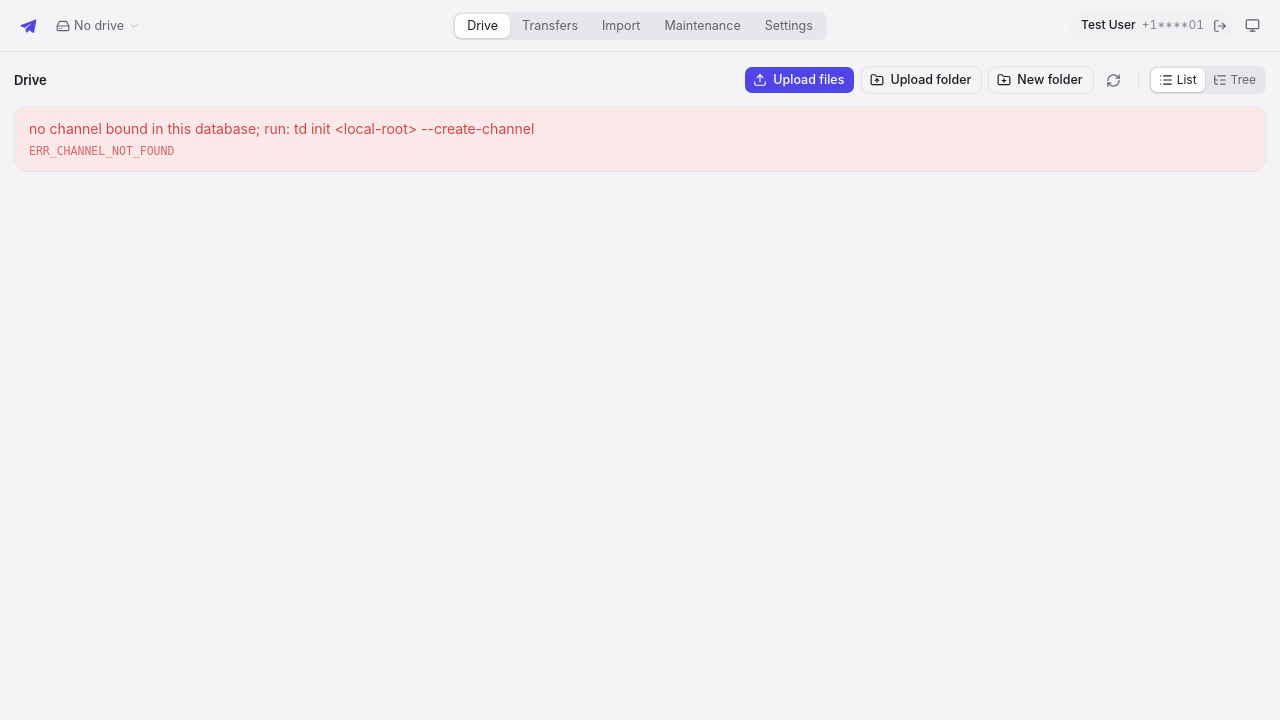
Test: creating a channel with the default title on a fresh machine
Expected: the message is shown, [14, 106, 1266, 172]
What coordinates should you click on to do the following:
click the button with aria-label "Switch drive"
I would click on:
 (98, 26)
Its box is [48, 12, 148, 40].
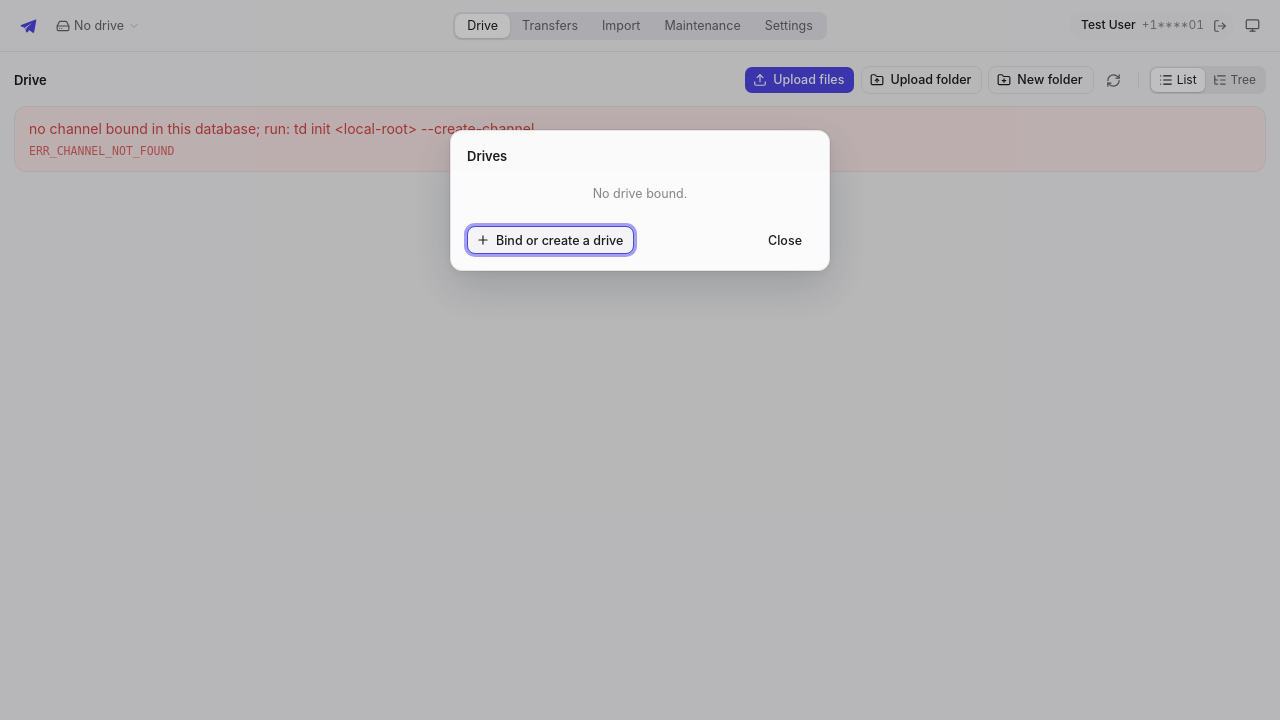
Now the text "No drive bound." is shown, box [593, 186, 687, 201]
What coordinates should you click on to do the following:
click the button "Bind or create a drive"
I would click on:
 (551, 240)
Its box is [467, 226, 634, 254].
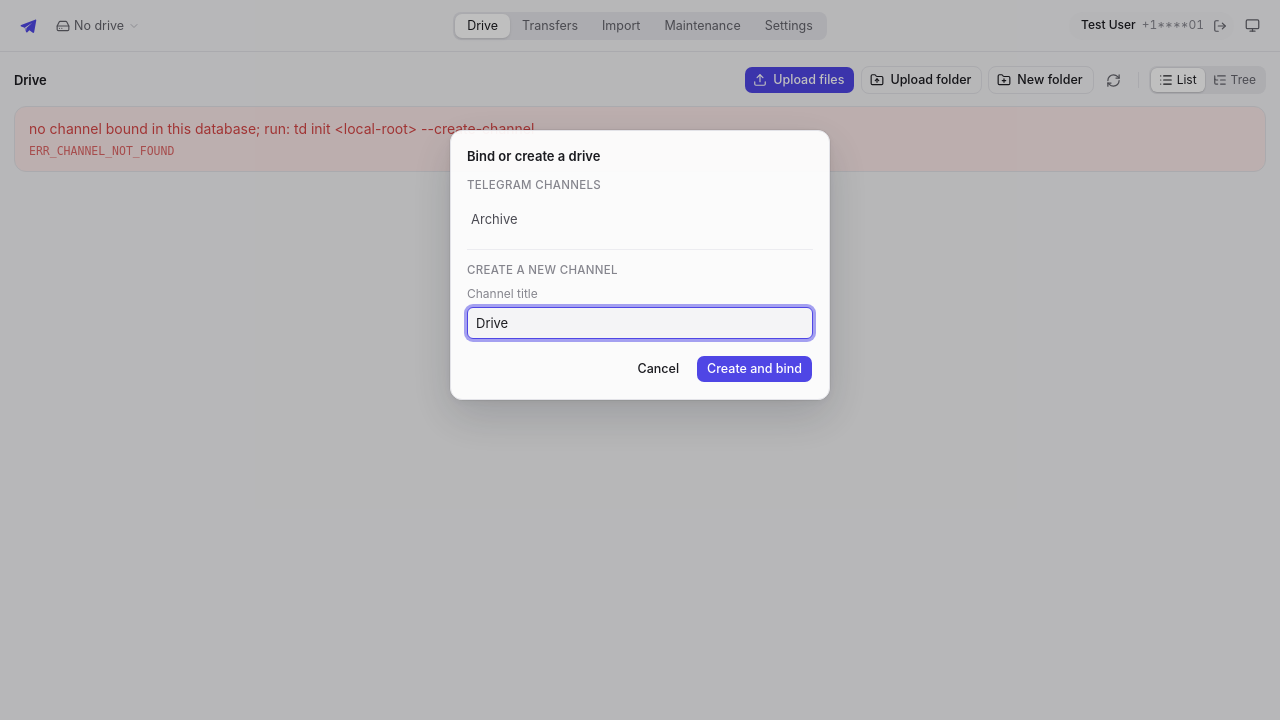
Now the field labelled "Channel title" holds "Drive", box [467, 307, 813, 339]
What coordinates should you click on to do the following:
click the button "Create and bind"
I would click on:
 (755, 369)
Its box is [696, 355, 813, 383].
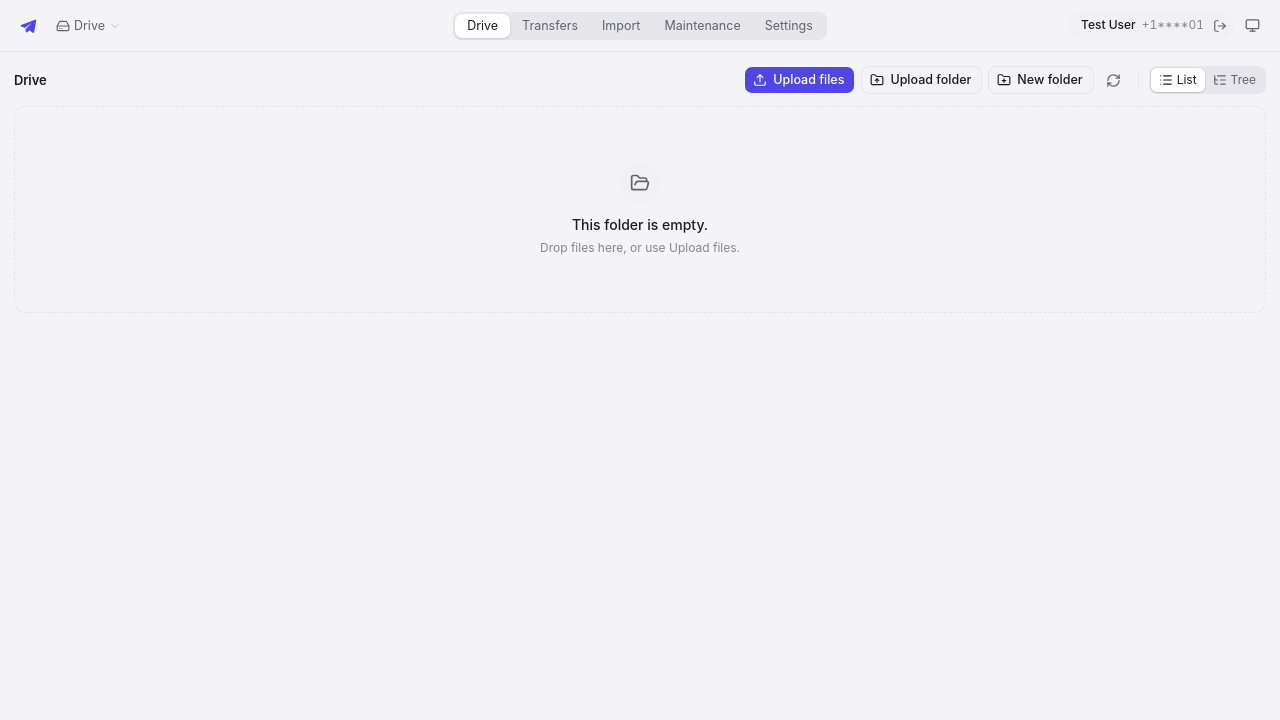
Now the dialog is gone
Now the button with aria-label "Switch drive" reads "Drive", box [48, 12, 129, 40]
Now the text "This folder is empty." is shown, box [572, 215, 708, 235]
